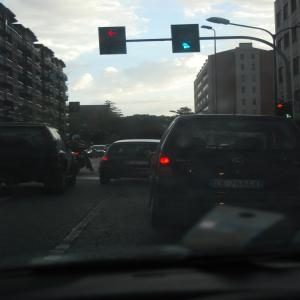Vehicle-registration-plate: (210, 180, 268, 189), (124, 162, 149, 166)
